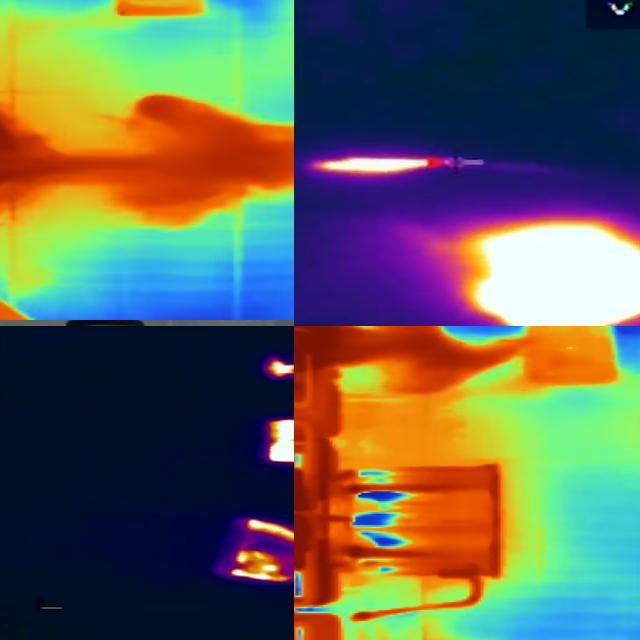fire: (461, 223, 640, 327), (295, 451, 363, 603), (296, 329, 347, 443), (4, 108, 47, 224), (310, 154, 450, 180), (231, 550, 295, 586), (241, 518, 295, 546), (265, 419, 295, 466), (265, 360, 295, 379)
